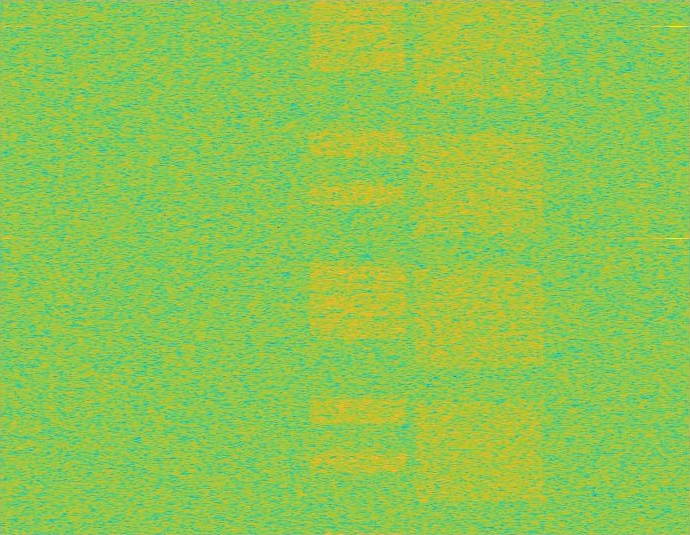5G: (410, 0, 548, 534)
LTE: (306, 0, 409, 534)
Radar: (670, 0, 684, 534)
